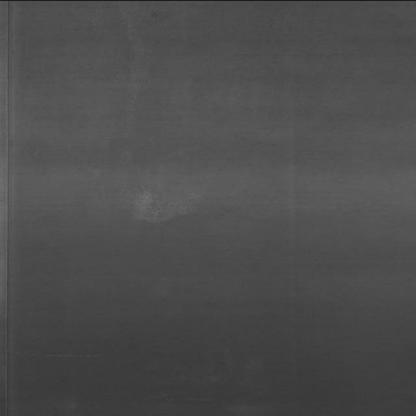welding_line: (0, 1, 22, 414)
